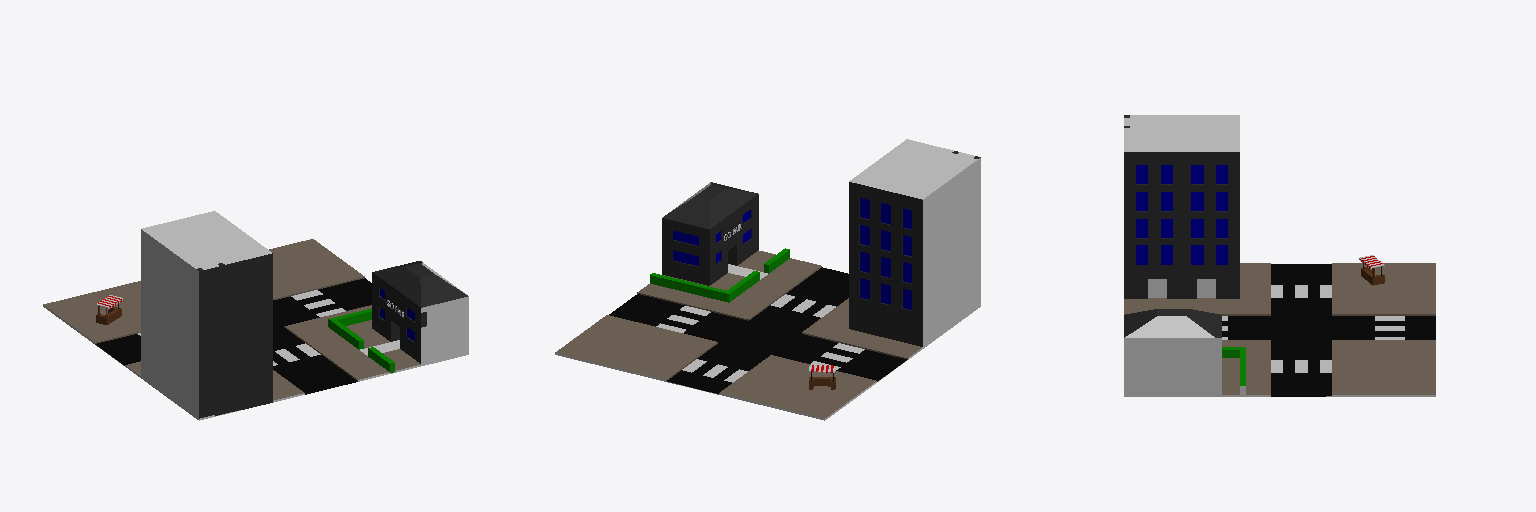
Rendered from area2joined.obj.
3 views of the same model, side by side, from view 1: azimuth 30°, elevation 25°; view 2: azimuth 150°, elevation 25°; view 3: azimuth 270°, elevation 25° (orthographic).
Visible parts, largest first — view 1: world_Cube; view 2: world_Cube; view 3: world_Cube.
Part boxes in pixels (x1,y1,x2,y2): world_Cube: (43, 211, 468, 420); world_Cube: (555, 139, 980, 420); world_Cube: (1124, 115, 1435, 396).
Bounding box in the file's own units: 100 × 52.83 × 100.